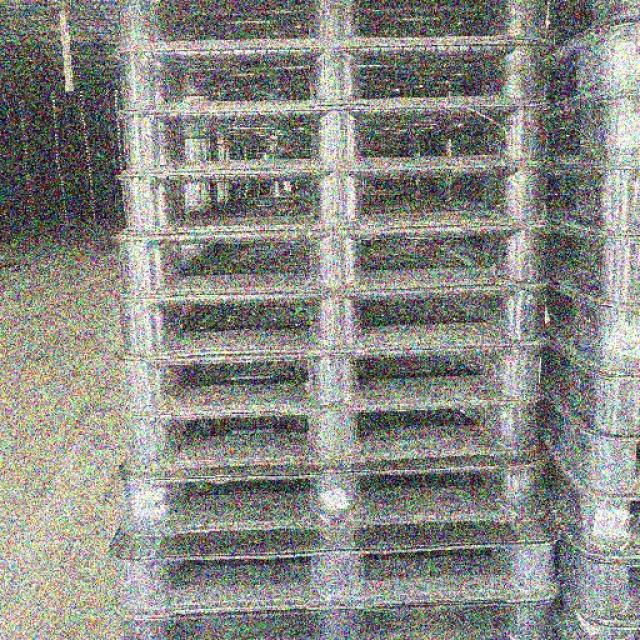igps: (96, 526, 569, 622), (111, 460, 553, 544), (108, 102, 563, 174), (107, 344, 558, 414), (107, 291, 564, 357), (100, 234, 564, 298), (107, 47, 562, 112), (109, 410, 547, 476), (107, 168, 560, 231), (104, 588, 568, 640), (104, 0, 567, 49), (527, 431, 639, 573), (531, 320, 640, 452), (530, 267, 638, 392), (538, 206, 638, 325), (537, 18, 639, 130), (538, 142, 638, 256), (549, 517, 640, 640), (538, 79, 638, 188), (538, 0, 638, 74)
